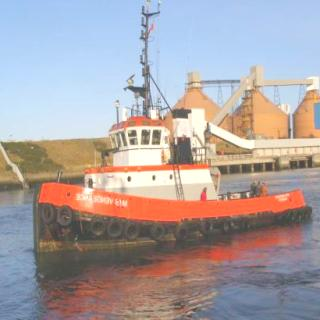Tug Boat: (29, 28, 314, 247)
